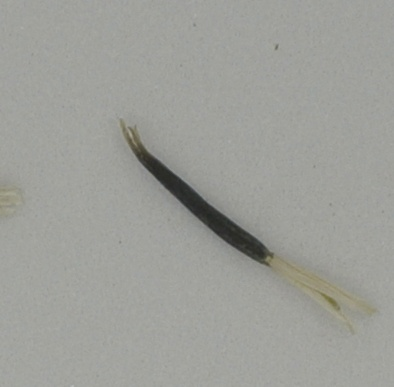เมล้ดปลายพู่กัน: (115, 115, 384, 338)
